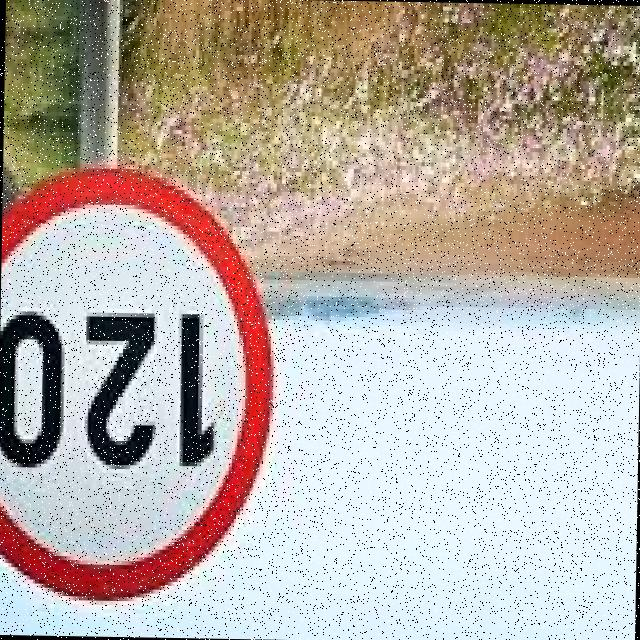speed_limit_120: (0, 170, 282, 611)
